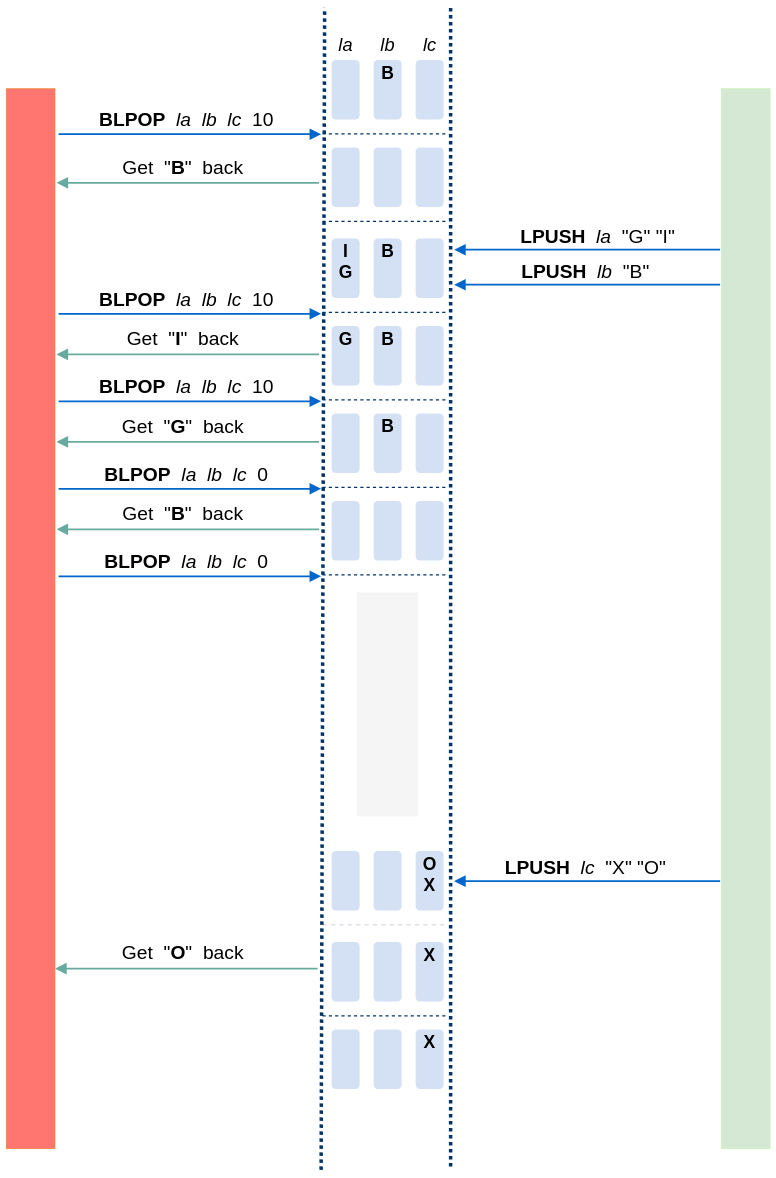
Image size: 776x1178. Some labels were removed from this diagram. The centre of each missing label's shape, as x and y in pixels:
B L O C K & W A I T: point (387, 704)
C L I E N T 1: point (30, 618)
C L I E N T 2: point (745, 618)
